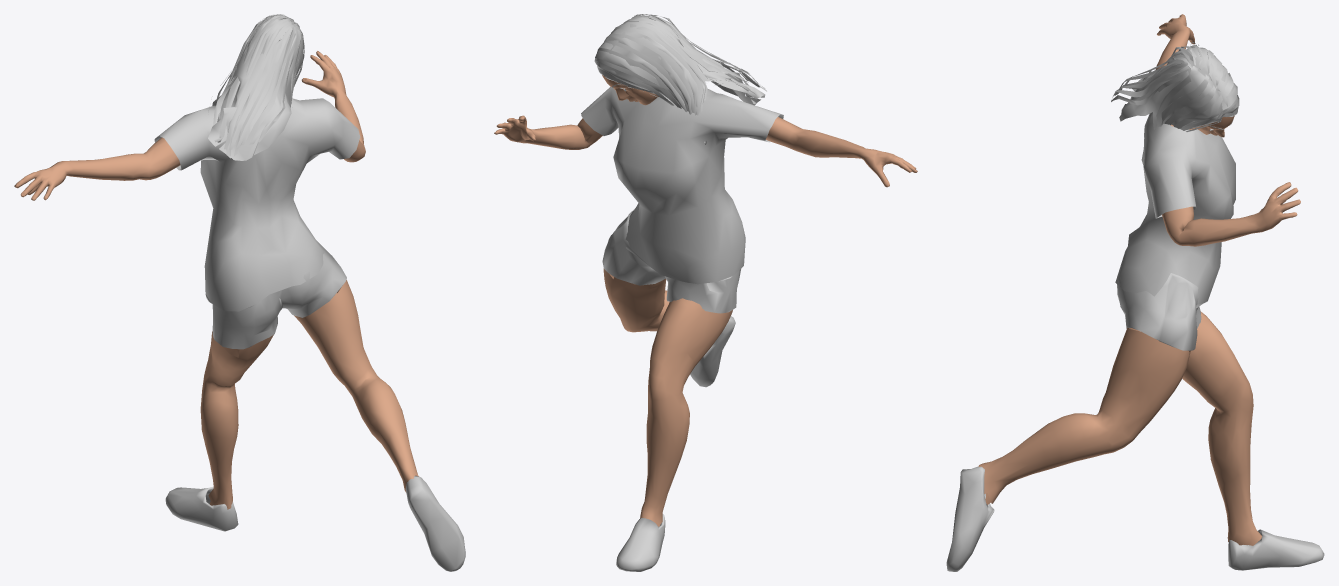
The model's file is player2att_000022.obj.
3 views of the same model, side by side, from view 1: azimuth 30°, elevation 25°; view 2: azimuth 150°, elevation 25°; view 3: azimuth 270°, elevation 25° (orthographic). The views are drawn at different scales.
Visible parts, largest first — view 1: player2:tshirt02, player2:Body, player2:fhair01, player2:shoes02, player2:short01; view 2: player2:tshirt02, player2:Body, player2:fhair01, player2:short01, player2:shoes02; view 3: player2:Body, player2:tshirt02, player2:fhair01, player2:shoes02, player2:short01.
Boxes of the visible parts, x1,y1,x2,y2 form: player2:tshirt02: (154, 98, 360, 311); player2:Body: (14, 51, 418, 509); player2:fhair01: (208, 14, 304, 160); player2:shoes02: (165, 475, 465, 571); player2:short01: (212, 240, 346, 349); player2:tshirt02: (581, 87, 783, 284); player2:Body: (494, 75, 917, 526); player2:fhair01: (594, 14, 766, 144); player2:short01: (602, 208, 740, 313); player2:shoes02: (616, 316, 735, 571); player2:Body: (978, 14, 1300, 545); player2:tshirt02: (1115, 112, 1235, 308); player2:fhair01: (1111, 42, 1239, 131); player2:shoes02: (946, 466, 1324, 571); player2:short01: (1117, 273, 1201, 350).
Bounding box in the file's own units: 12.12 × 16.12 × 10.3.
